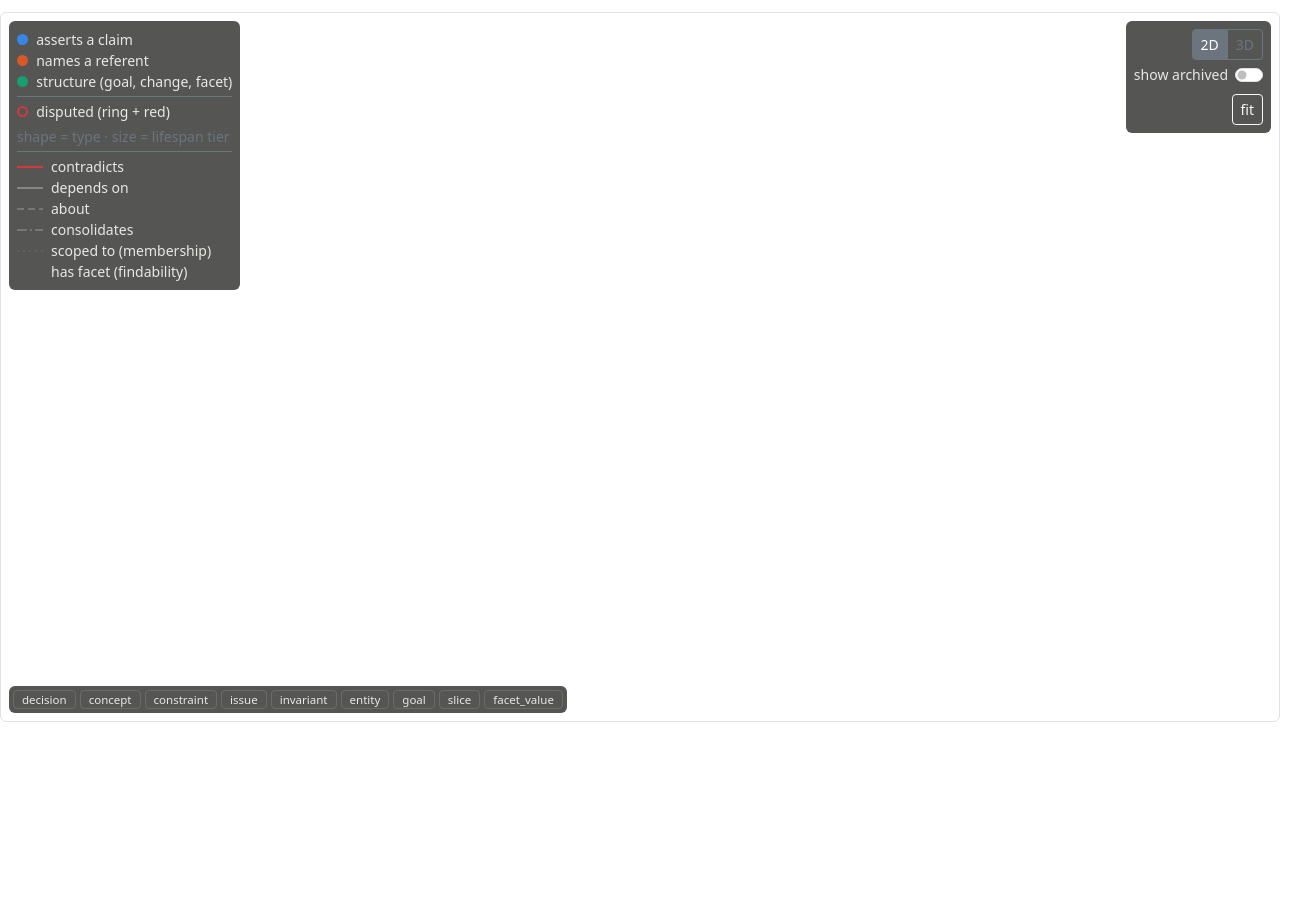
edges › lists the selected node’s edges in both directions
This screenshot has width=1292, height=912.
Step 1. Click the 1st element with class "end-0" → click(640, 367), box [1,13,1279,721]
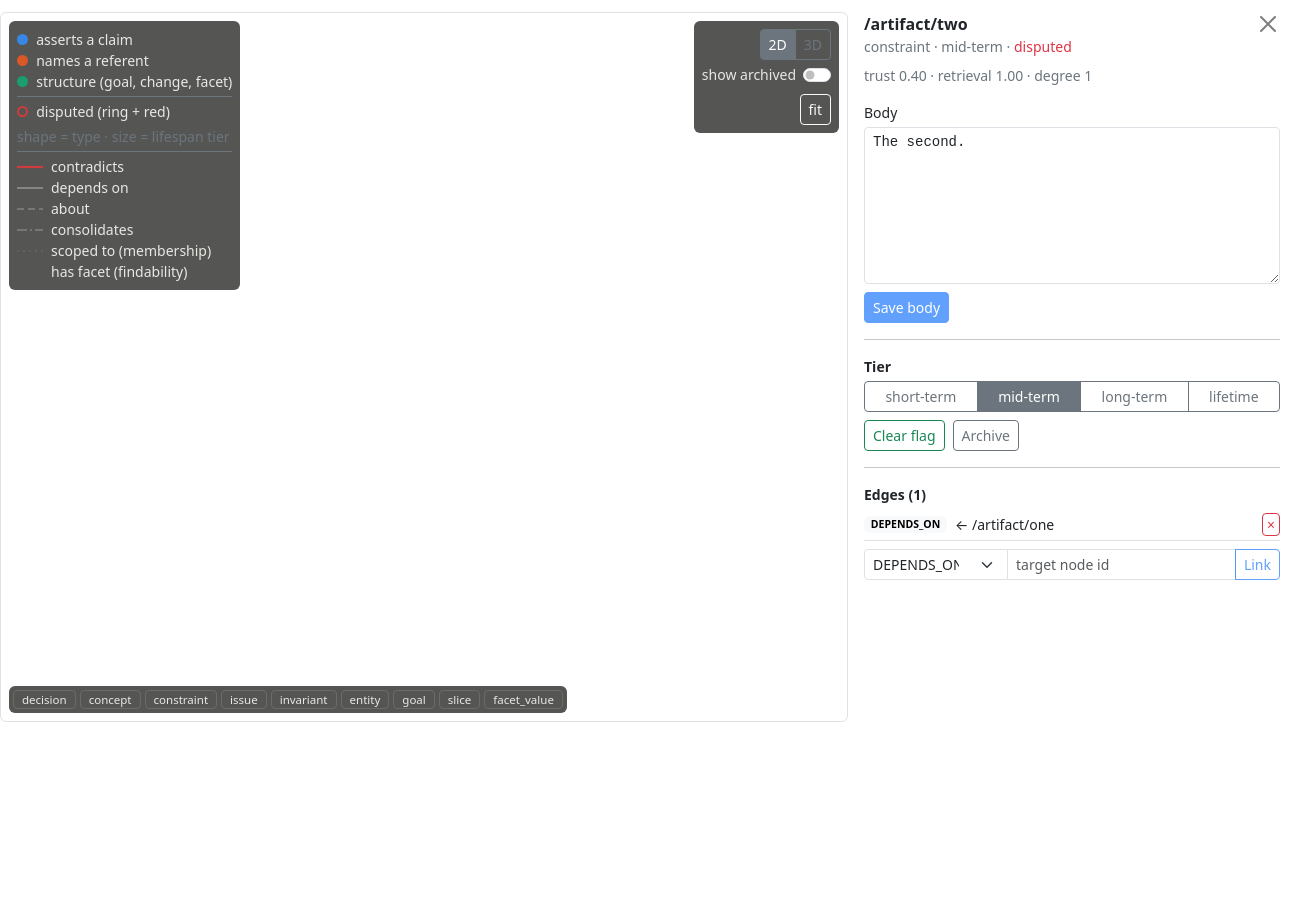
Expected: the text "Edges (1)" is shown, [864,485,926,504]
Expected: the text "DEPENDS_ON" is shown, [864,516,947,533]
